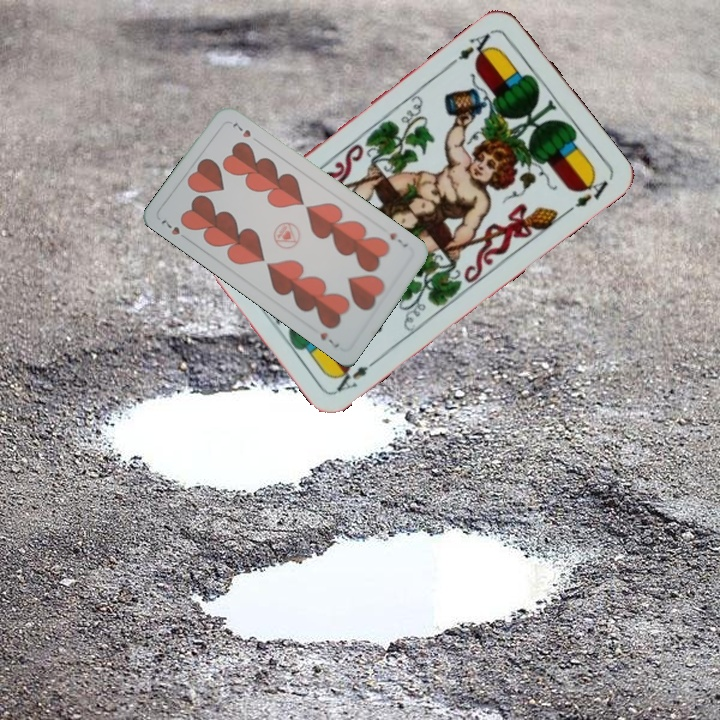EA: (330, 354, 382, 395), (454, 26, 497, 65)
H7: (157, 215, 182, 238), (386, 228, 410, 250)
